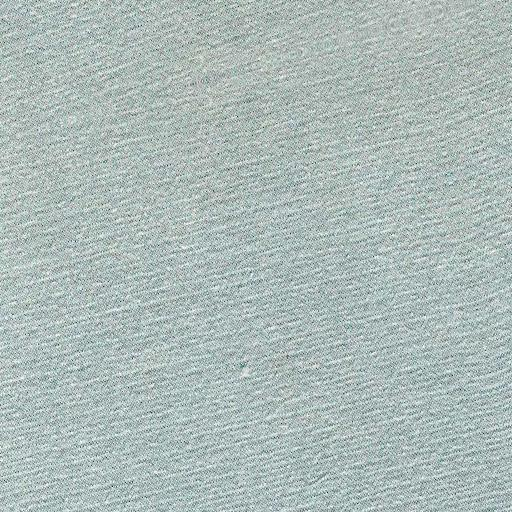knot: (229, 355, 260, 387)
